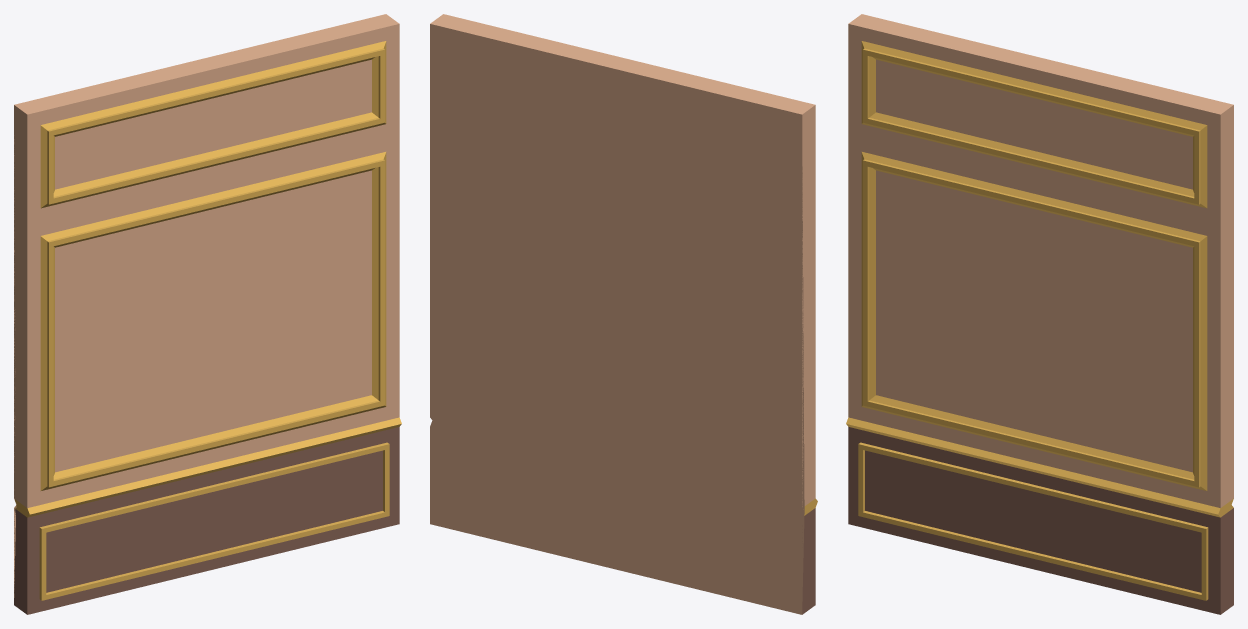
Rendered from SM_WallA_4.fbx.
3 views of the same model, side by side, from view 1: azimuth 30°, elevation 25°; view 2: azimuth 150°, elevation 25°; view 3: azimuth 330°, elevation 25° (orthographic).
Visible parts, largest first — view 1: Plane; view 2: Plane; view 3: Plane.
Boxes of the visible parts, bbox=[...] form: Plane: bbox=[14, 14, 401, 614]; Plane: bbox=[430, 14, 817, 614]; Plane: bbox=[846, 14, 1233, 614].
Size of the model in its own units: 400 by 514 by 31.38.
